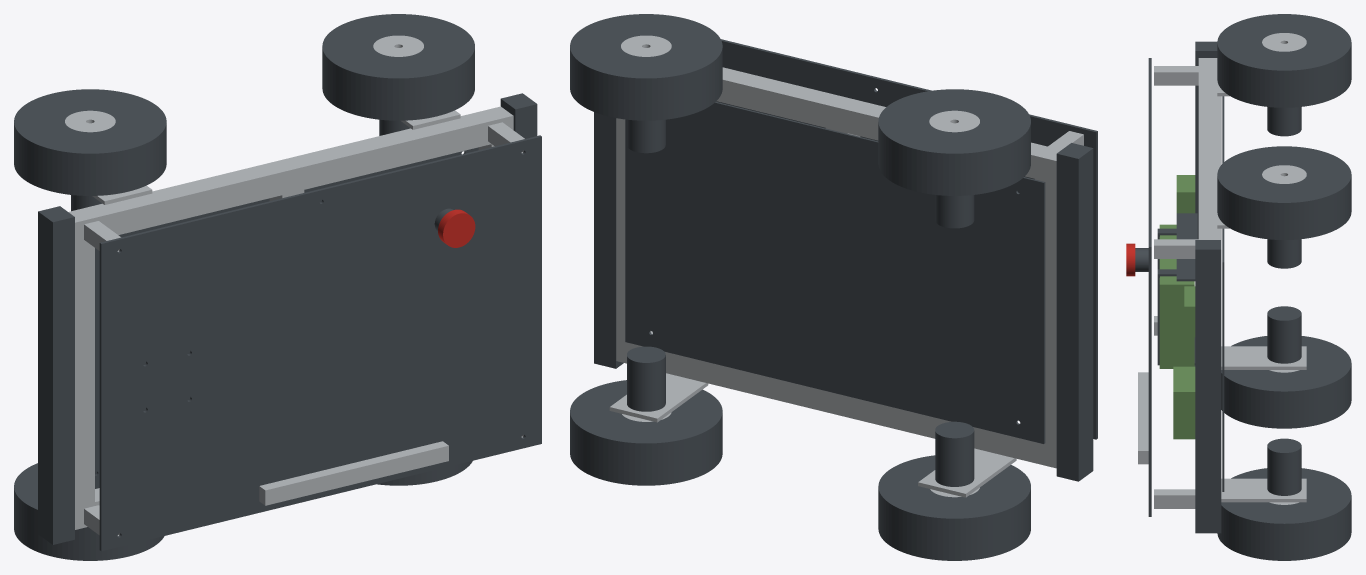
The model's file is AgriBot_chassis.glb.
3 views of the same model, side by side, from view 1: azimuth 30°, elevation 25°; view 2: azimuth 150°, elevation 25°; view 3: azimuth 270°, elevation 25° (orthographic). The views are drawn at different scales.
Parts seen in each view (by area): view 1: removable_deck, long_rail_185, tire_-210_237.5, tire_210_237.5, bumper_-315, cross_rail_-285, accessory_rail, tire_-210_-237.5, underbody_skid, bumper_315, emergency_stop_button, wheel_hub_-210_237.5 (+2 smaller); view 2: underbody_skid, tire_210_237.5, tire_-210_237.5, bumper_-315, tire_210_-237.5, tire_-210_-237.5, removable_deck, long_rail_-185, long_rail_185, bumper_315, cross_rail_-285, motor_encoder_-210_-237.5 (+8 smaller); view 3: tire_-210_237.5, tire_210_237.5, tire_210_-237.5, tire_-210_-237.5, bumper_315, long_rail_185, battery, motor_encoder_210_-237.5, motor_encoder_-210_-237.5, removable_deck, motor_controller, motor_bracket_210_-237.5 (+17 smaller).
Boxes of the visible parts, x1,y1,x2,y2 form: removable_deck: (99, 135, 541, 551); long_rail_185: (68, 106, 513, 245); tire_-210_237.5: (14, 89, 166, 195); tire_210_237.5: (322, 14, 474, 120); bumper_-315: (38, 206, 74, 544); cross_rail_-285: (75, 242, 94, 506); accessory_rail: (259, 441, 448, 505); tire_-210_-237.5: (14, 463, 164, 560); underbody_skid: (95, 147, 478, 488); bumper_315: (500, 93, 537, 138); emergency_stop_button: (438, 209, 475, 247); wheel_hub_-210_237.5: (65, 110, 115, 132); underbody_skid: (625, 101, 1045, 443); tire_210_237.5: (570, 14, 722, 120); tire_-210_237.5: (878, 89, 1030, 195); bumper_-315: (1056, 143, 1093, 481); tire_210_-237.5: (570, 380, 722, 485); tire_-210_-237.5: (878, 455, 1030, 560); removable_deck: (716, 39, 1097, 439); long_rail_-185: (616, 338, 1056, 468); long_rail_185: (716, 67, 1060, 183); bumper_315: (594, 112, 623, 368); cross_rail_-285: (1035, 179, 1056, 445); motor_encoder_-210_-237.5: (935, 421, 974, 486); tire_-210_237.5: (1217, 14, 1351, 107); tire_210_237.5: (1217, 146, 1351, 239); tire_210_-237.5: (1217, 468, 1351, 560); tire_-210_-237.5: (1221, 336, 1351, 428); bumper_315: (1195, 240, 1221, 533); long_rail_185: (1198, 58, 1220, 239); battery: (1159, 224, 1194, 368); motor_encoder_210_-237.5: (1267, 438, 1301, 495); motor_encoder_-210_-237.5: (1267, 306, 1301, 363); removable_deck: (1148, 58, 1151, 516); motor_controller: (1173, 366, 1195, 439); motor_bracket_210_-237.5: (1221, 478, 1306, 502).
Size of the model in its own units: 0.66 by 0.53 by 0.302.
